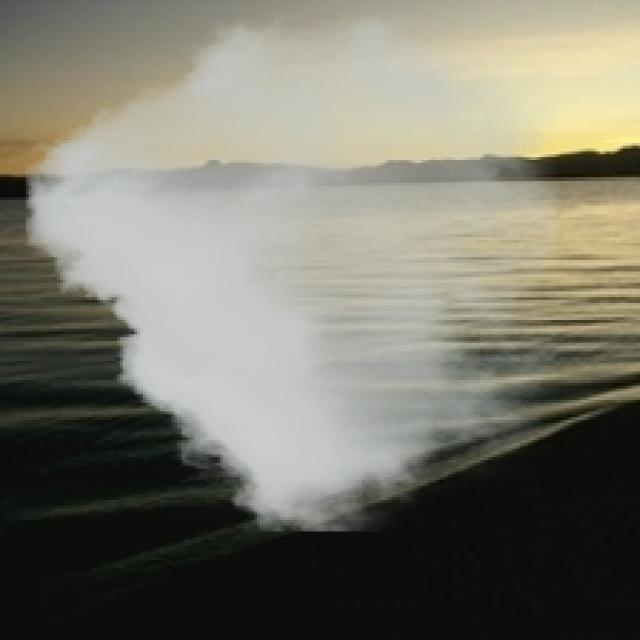smoke: (26, 14, 557, 532)
